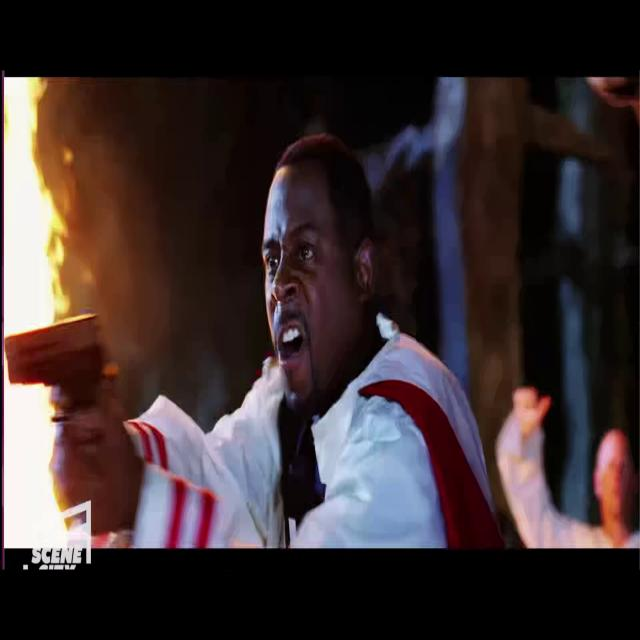weapons: (0, 302, 148, 472)
